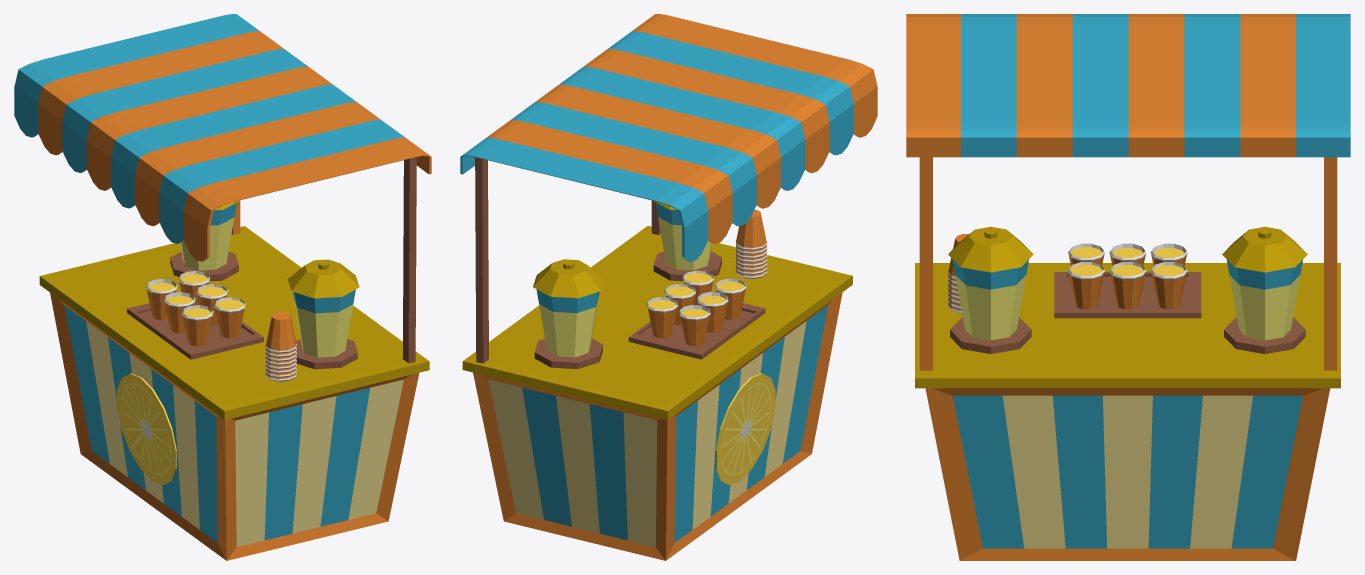
Rendered from lemonade.fbx.
The picture shows the model from 3 angles, left to right: view 1: azimuth 30°, elevation 25°; view 2: azimuth 150°, elevation 25°; view 3: azimuth 270°, elevation 25°; orthographic projection. The views are drawn at different scales.
Visible parts, largest first — view 1: Cube, Plane.001, Cylinder.003, Cylinder.017, Cylinder, Cube.001, Cylinder.016, Cylinder.013, Cylinder.011, Cylinder.001, Cylinder.012, Cylinder.014 (+1 smaller); view 2: Cube, Plane.001, Cylinder, Cylinder.017, Cylinder.003, Cube.001, Cylinder.012, Cylinder.015, Cylinder.011, Cylinder.001, Cylinder.013, Cylinder.014 (+1 smaller); view 3: Cube, Plane.001, Cylinder, Cylinder.003, Cube.001, Cylinder.014, Cylinder.015, Cylinder.016, Cylinder.012, Cylinder.001, Cylinder.013.
Part boxes in pixels (x1,y1,x2,y2): Cube: (39, 226, 429, 560); Plane.001: (14, 14, 431, 363); Cylinder.003: (287, 259, 359, 369); Cylinder.017: (117, 373, 176, 484); Cylinder: (170, 200, 239, 281); Cube.001: (127, 303, 263, 359); Cylinder.016: (214, 297, 245, 338); Cylinder.013: (182, 305, 213, 346); Cylinder.011: (265, 312, 296, 353); Cylinder.001: (164, 292, 195, 333); Cylinder.012: (146, 279, 177, 320); Cylinder.014: (196, 284, 227, 325); Cube: (462, 226, 852, 560); Plane.001: (460, 14, 877, 363); Cylinder: (533, 259, 604, 368); Cylinder.017: (715, 373, 775, 484); Cylinder.003: (653, 201, 721, 281); Cube.001: (628, 303, 765, 359); Cylinder.012: (679, 305, 710, 346); Cylinder.015: (646, 297, 677, 338); Cylinder.011: (735, 209, 767, 250); Cylinder.001: (697, 291, 728, 333); Cylinder.013: (715, 278, 746, 319); Cylinder.014: (664, 284, 695, 325); Cube: (915, 263, 1340, 560); Plane.001: (906, 14, 1350, 370); Cylinder: (1222, 226, 1307, 353); Cylinder.003: (948, 226, 1033, 353); Cube.001: (1054, 272, 1201, 318); Cylinder.014: (1109, 262, 1146, 309); Cylinder.015: (1150, 262, 1187, 309); Cylinder.016: (1068, 262, 1104, 309); Cylinder.012: (1150, 243, 1187, 265); Cylinder.001: (1109, 243, 1146, 265); Cylinder.013: (1068, 243, 1104, 265).
Bounding box in the file's own units: 534 × 860 × 790.
